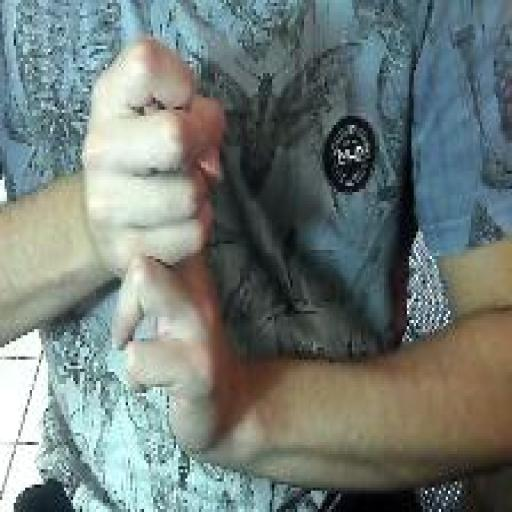Ne -rat-: (78, 31, 235, 460)
